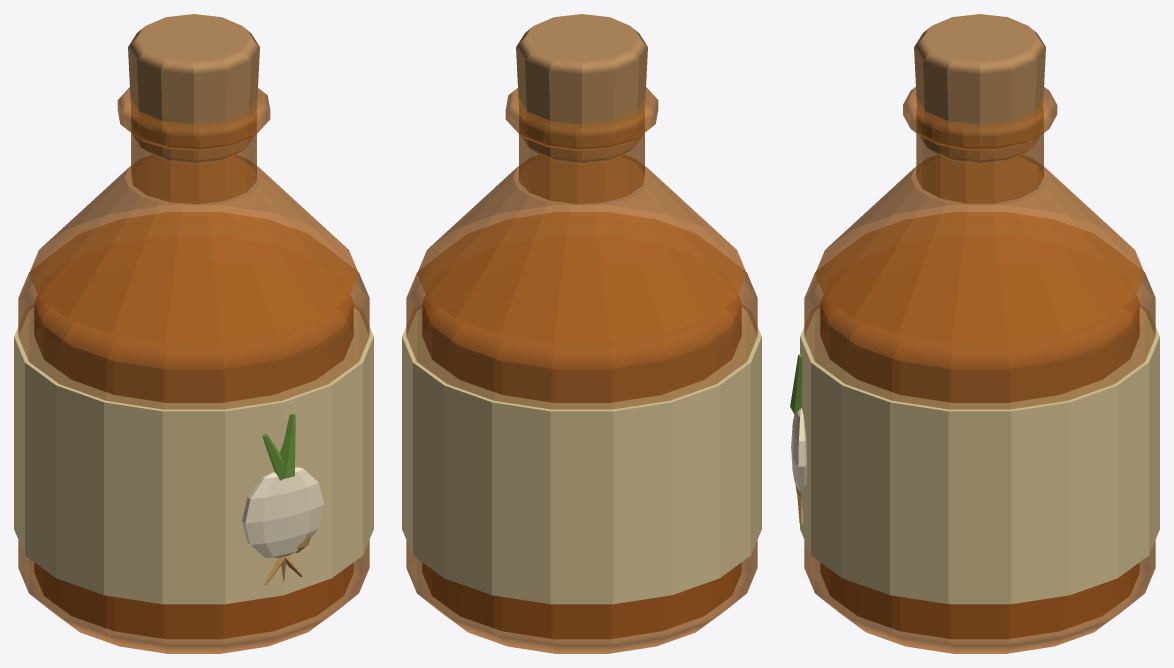
The model's file is SupplyTonic.glb.
The picture shows the model from 3 angles, left to right: view 1: azimuth 30°, elevation 25°; view 2: azimuth 150°, elevation 25°; view 3: azimuth 270°, elevation 25°; orthographic projection.
Visible parts, largest first — view 1: SupplyTonic.001; view 2: SupplyTonic.001; view 3: SupplyTonic.001.
Boxes of the visible parts, bbox=[...] form: SupplyTonic.001: bbox=[14, 14, 373, 653]; SupplyTonic.001: bbox=[402, 14, 761, 653]; SupplyTonic.001: bbox=[790, 14, 1159, 653].
Bounding box in the file's own units: 0.0666 × 0.115 × 0.0695.
